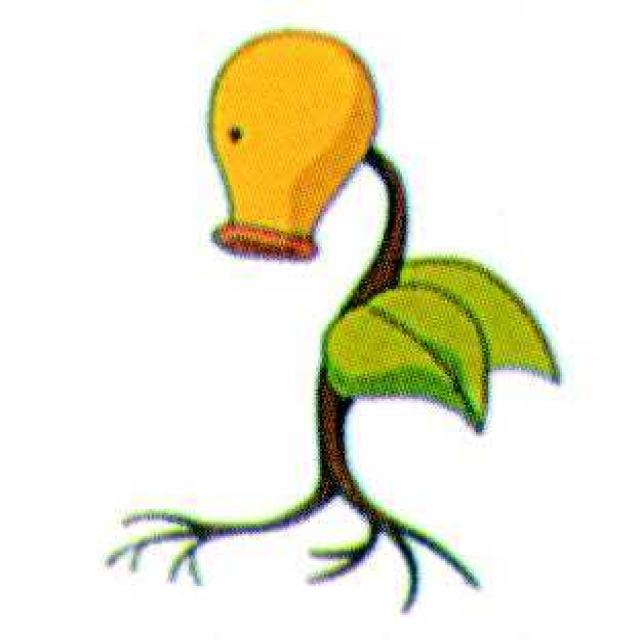Bellsprout: (108, 19, 573, 592)
